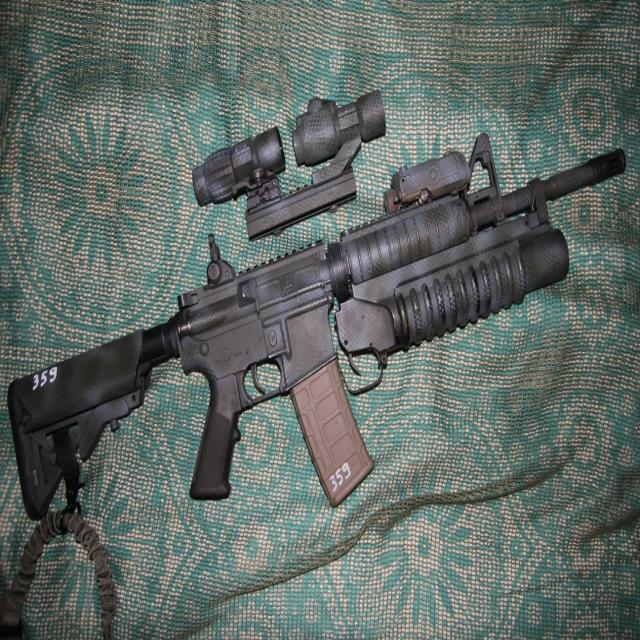firearm: (7, 126, 629, 524)
